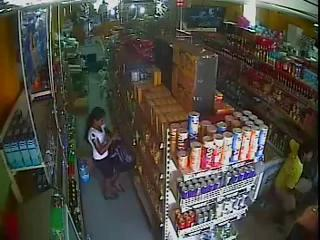Normal: (272, 138, 304, 194)
shoplifting: (86, 107, 136, 200)
